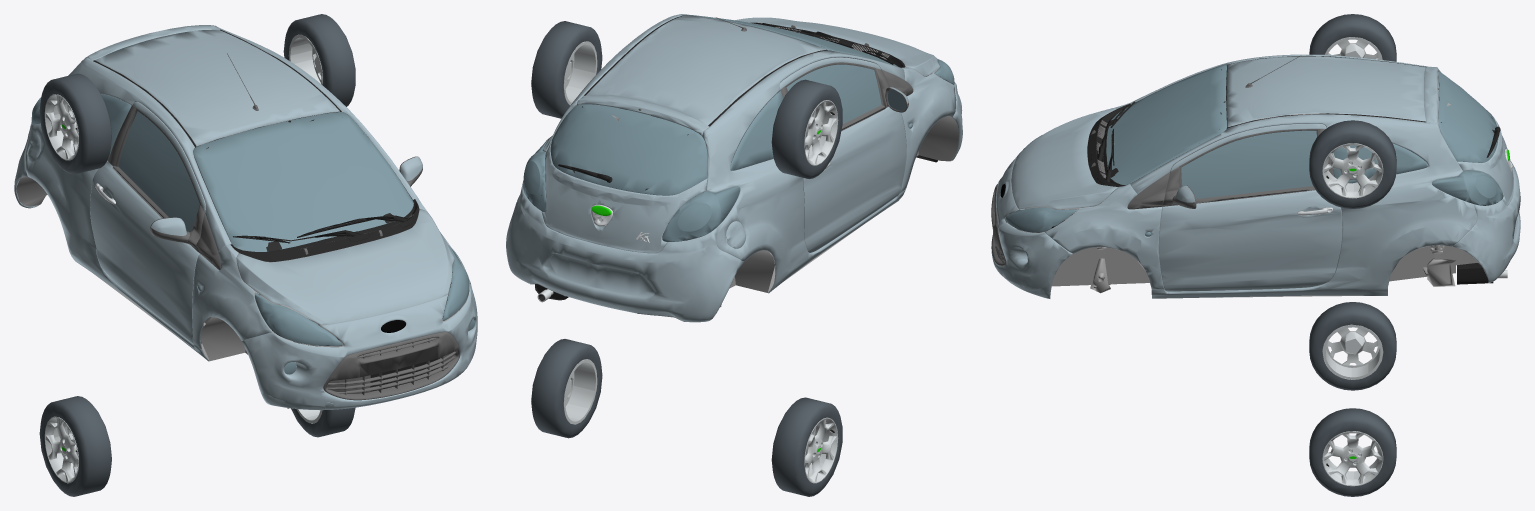
Rendered from ford-ka-rodas.glb.
3 views of the same model, side by side, from view 1: azimuth 30°, elevation 25°; view 2: azimuth 150°, elevation 25°; view 3: azimuth 270°, elevation 25° (orthographic). The views are drawn at different scales.
Parts seen in each view (by area): view 1: am5eunew1-material (×4), am5eunew1_glass-material (×4), tire_01a-material (×4), am5eunew1_raceparts_light-material (×2), am5eunew1_grey-material (×3), am5eunew1_raceparts-material, am5eunew1_underbody-material (×2); view 2: am5eunew1-material (×3), am5eunew1_glass-material (×5), tire_01a-material (×4), am5eunew1_grey-material (×4), am5eunew1_underbody-material (×2), am5eunew1_raceparts-material, am5eunew1_raceparts_light-material; view 3: am5eunew1-material (×4), am5eunew1_glass-material (×5), tire_01a-material (×4), am5eunew1_grey-material (×4), am5eunew1_underbody-material, am5eunew1_raceparts_light-material (×2), am5eunew1_raceparts-material.
Part boxes in pixels (x1=…): am5eunew1-material (×4): x1=25, y1=25, x2=477, y2=410; am5eunew1_glass-material (×4): x1=31, y1=94, x2=469, y2=346; tire_01a-material (×4): x1=39, y1=14, x2=355, y2=496; am5eunew1_raceparts_light-material (×2): x1=108, y1=53, x2=460, y2=400; am5eunew1_grey-material (×3): x1=44, y1=34, x2=322, y2=483; am5eunew1_raceparts-material: x1=93, y1=29, x2=419, y2=261; am5eunew1_underbody-material (×2): x1=16, y1=62, x2=454, y2=360; am5eunew1-material (×3): x1=506, y1=14, x2=956, y2=322; am5eunew1_glass-material (×5): x1=523, y1=14, x2=954, y2=241; tire_01a-material (×4): x1=531, y1=21, x2=842, y2=496; am5eunew1_grey-material (×4): x1=563, y1=41, x2=838, y2=483; am5eunew1_underbody-material (×2): x1=536, y1=27, x2=958, y2=307; am5eunew1_raceparts-material: x1=535, y1=15, x2=905, y2=301; am5eunew1_raceparts_light-material: x1=621, y1=17, x2=913, y2=130; am5eunew1-material (×4): x1=991, y1=54, x2=1520, y2=298; am5eunew1_glass-material (×5): x1=1004, y1=64, x2=1503, y2=236; tire_01a-material (×4): x1=1309, y1=14, x2=1396, y2=496; am5eunew1_grey-material (×4): x1=1322, y1=37, x2=1383, y2=486; am5eunew1_underbody-material: x1=1025, y1=103, x2=1477, y2=297; am5eunew1_raceparts_light-material (×2): x1=991, y1=55, x2=1438, y2=265; am5eunew1_raceparts-material: x1=1087, y1=56, x2=1500, y2=284.
Size of the model in its own units: 1.92 by 2.89 by 3.62.
